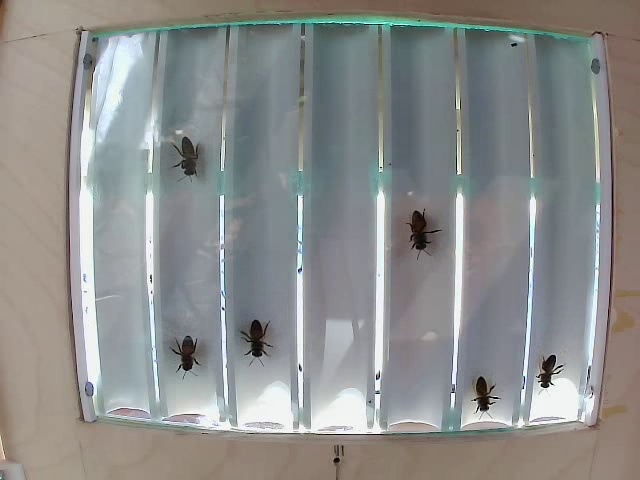bee: (402, 202, 444, 266), (245, 312, 283, 365), (168, 135, 210, 181), (172, 335, 208, 375), (467, 374, 499, 416), (530, 352, 558, 393)
